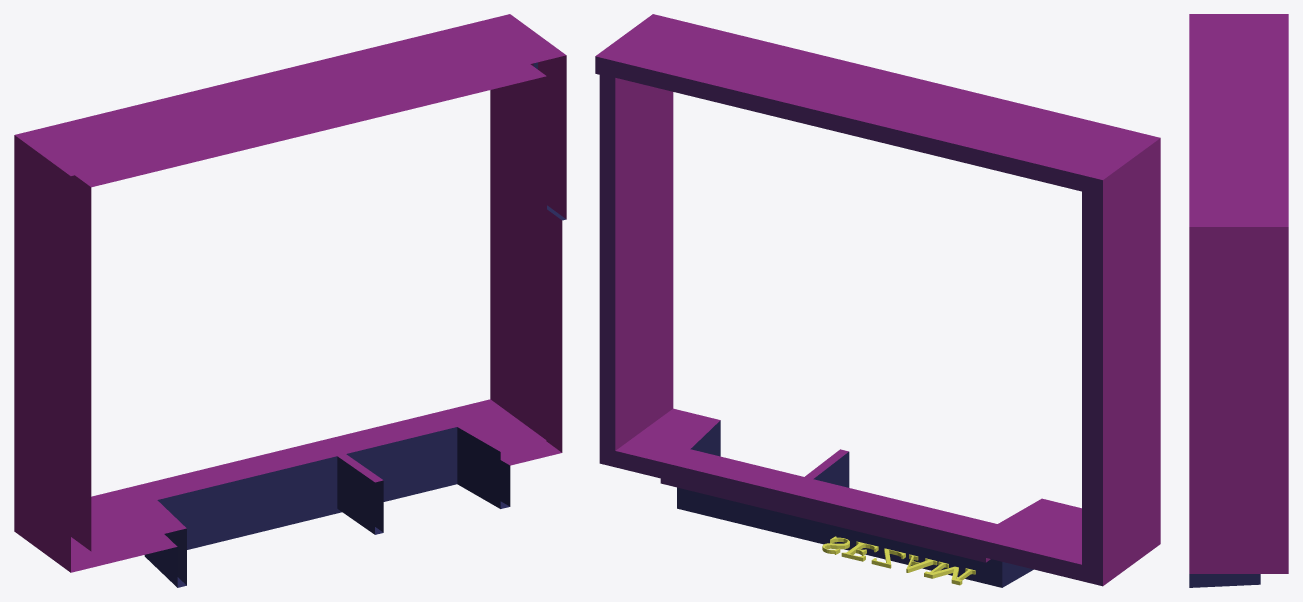
File: Sezam Tier 1.fbx
3 views of the same model, side by side, from view 1: azimuth 30°, elevation 25°; view 2: azimuth 150°, elevation 25°; view 3: azimuth 270°, elevation 25° (orthographic). The views are drawn at different scales.
Visible parts, largest first — view 1: Sezam; view 2: Sezam; view 3: Sezam.
Part boxes in pixels (<box>): Sezam: <box>14,14,566,587</box>; Sezam: <box>595,14,1160,587</box>; Sezam: <box>1189,14,1288,587</box>.
Bounding box in the file's own units: 2.8 × 2.36 × 0.5517.
